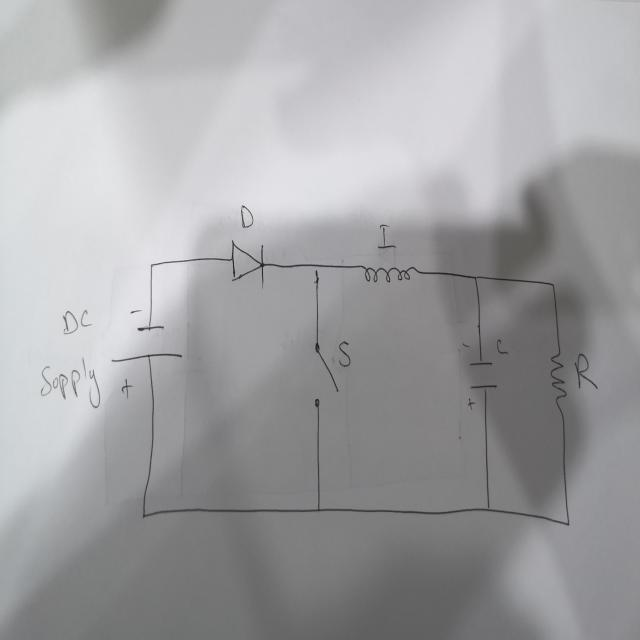capacitor: (460, 339, 499, 411)
diode: (228, 236, 266, 294)
inductor: (360, 258, 421, 285)
junction: (311, 262, 321, 286), (148, 258, 156, 274), (548, 278, 557, 291), (485, 502, 492, 515), (140, 509, 147, 521), (472, 271, 478, 283), (315, 504, 322, 514), (565, 518, 571, 528)
resistor: (549, 344, 567, 413)
source: (109, 303, 184, 402)
switch: (312, 338, 340, 409)
text: (38, 350, 104, 410), (573, 352, 599, 392), (61, 306, 94, 335), (376, 221, 398, 251), (336, 338, 352, 370), (239, 201, 254, 229), (495, 336, 509, 359)
